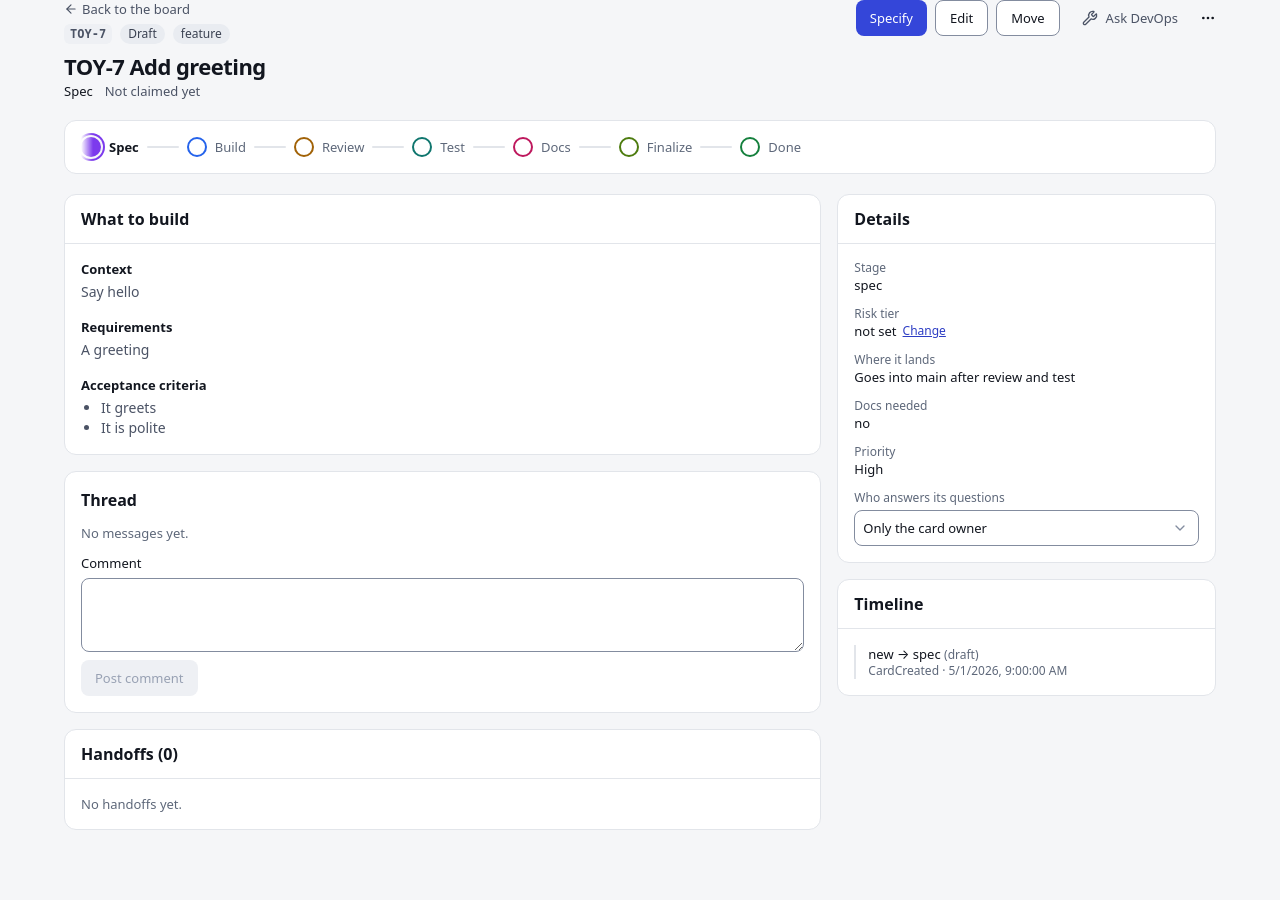
Test: editing a card › says why when the server refuses (a claimed card)
Click the button with test id "edit-card".
click(962, 18)  # box top-left (935, 0), bottom-right (988, 36)
(page scrolled)
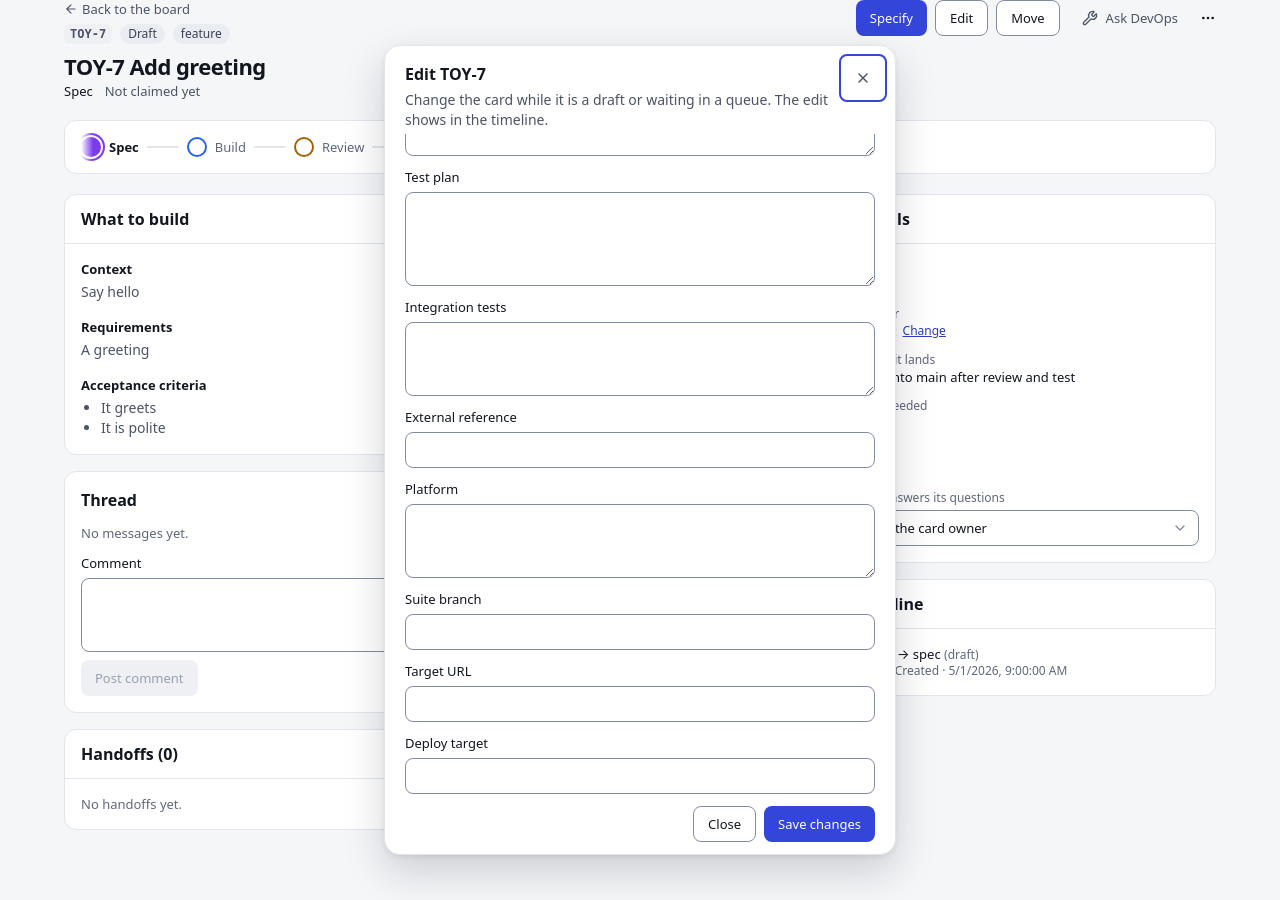
Click the button "Save changes".
click(820, 824)  # box top-left (764, 806), bottom-right (875, 842)
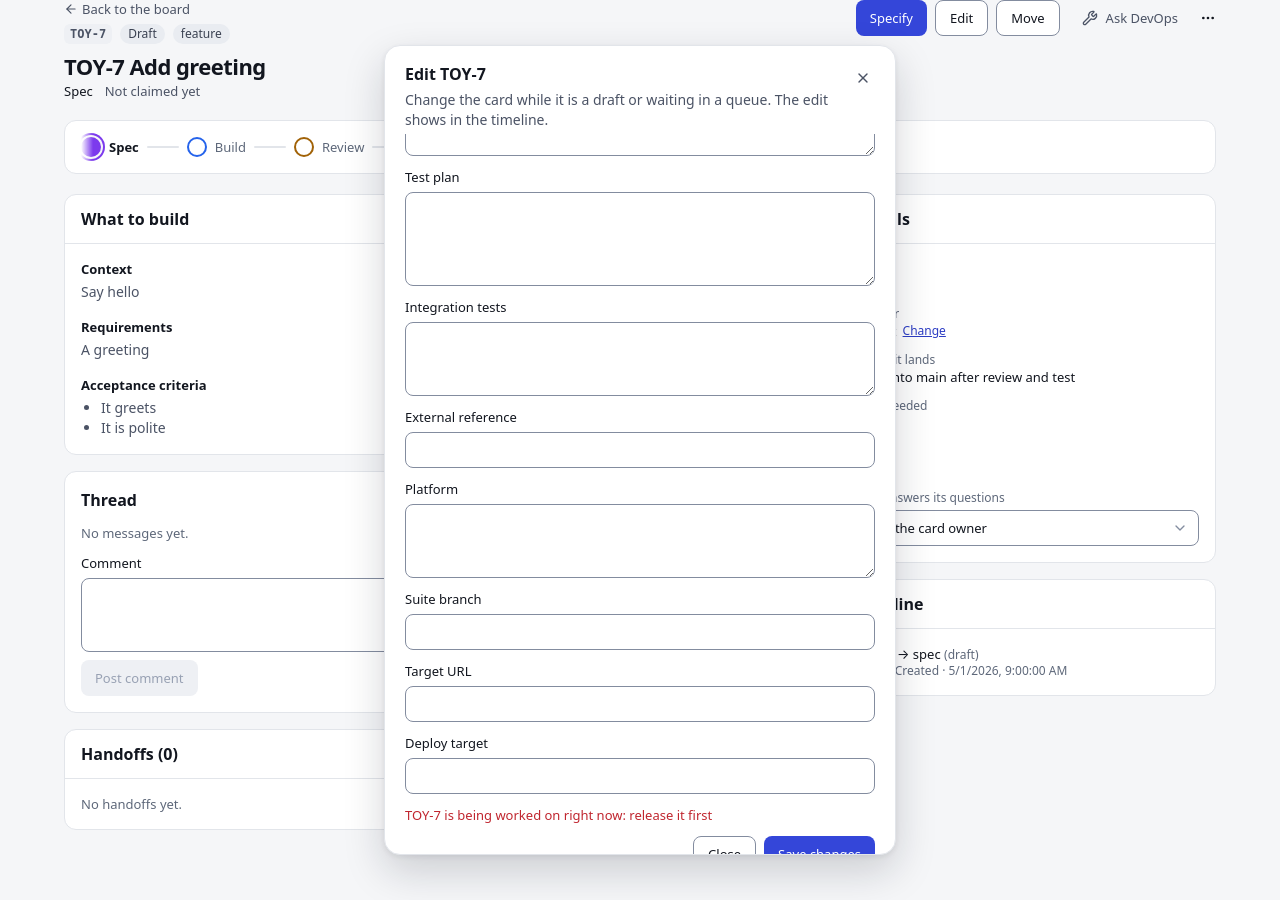
Check: the message with test id "edit-refused" shows "being worked on", box top-left (405, 806), bottom-right (712, 824)
